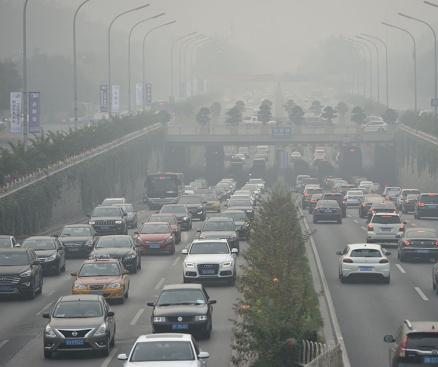bus: (143, 171, 185, 211)
car: (41, 294, 116, 361), (145, 283, 217, 338), (115, 332, 212, 367), (70, 253, 131, 305), (177, 237, 239, 283), (383, 318, 438, 367), (1, 246, 43, 300), (87, 233, 141, 275), (336, 242, 392, 282), (20, 235, 66, 274), (195, 214, 241, 252), (395, 227, 438, 263), (133, 221, 177, 255), (56, 224, 98, 256), (367, 212, 408, 244), (84, 206, 128, 235), (146, 212, 183, 243), (174, 193, 208, 223), (155, 204, 191, 231), (218, 209, 250, 239), (317, 192, 347, 218), (366, 200, 398, 224), (99, 195, 127, 221), (111, 202, 137, 229), (413, 192, 438, 220), (193, 188, 221, 213), (358, 195, 387, 219), (1, 234, 22, 267), (223, 198, 256, 219), (312, 200, 342, 223), (301, 187, 325, 210), (400, 193, 423, 215), (307, 193, 330, 215), (239, 182, 262, 202), (359, 119, 389, 134), (342, 190, 366, 208), (336, 182, 358, 200), (294, 173, 311, 194), (382, 186, 402, 203), (358, 179, 374, 193), (312, 148, 329, 161), (288, 150, 304, 163), (238, 145, 251, 159)
